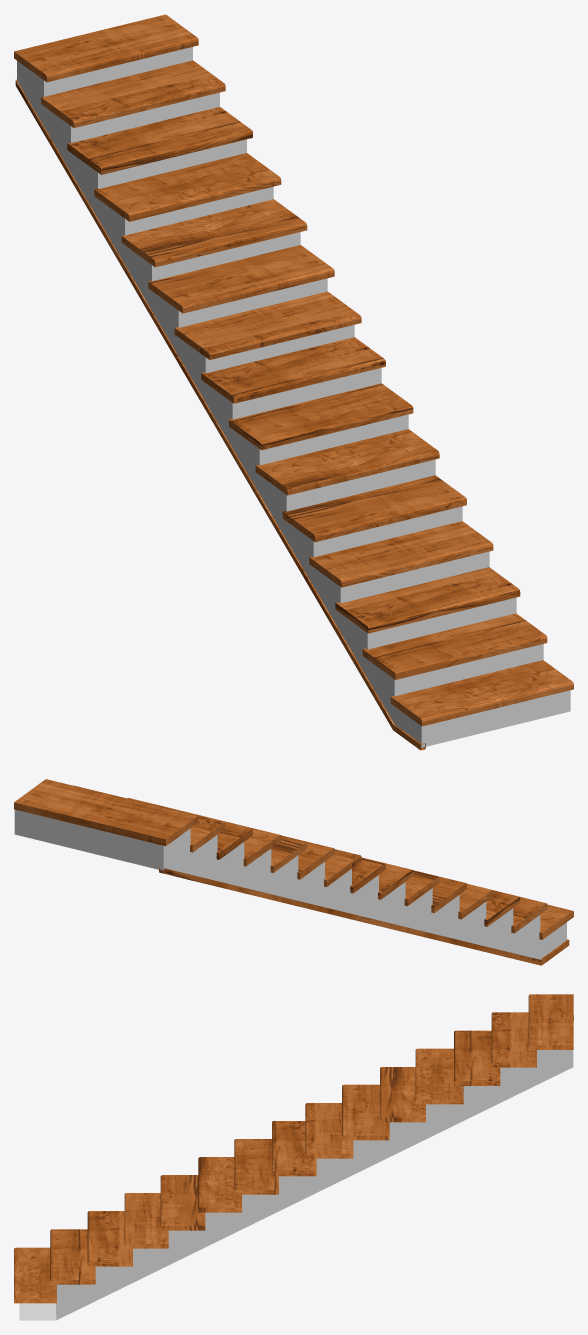
File: BUILDING_stairs_01.FBX
The picture shows the model from 3 angles, top to bottom: view 1: azimuth 30°, elevation 25°; view 2: azimuth 150°, elevation 25°; view 3: azimuth 270°, elevation 25°; orthographic projection. The views are drawn at different scales.
Visible parts, largest first — view 1: BUILIDING_stairs_01_steps, BUILIDING_stairs_01_base, BUILIDING_stairs_01_edge; view 2: BUILIDING_stairs_01_base, BUILIDING_stairs_01_steps, BUILIDING_stairs_01_edge; view 3: BUILIDING_stairs_01_steps, BUILIDING_stairs_01_base.
Boxes of the visible parts, box(x1,y1,x2,y2) form: BUILIDING_stairs_01_steps: box(14, 14, 573, 726); BUILIDING_stairs_01_base: box(17, 47, 570, 747); BUILIDING_stairs_01_edge: box(15, 79, 425, 750); BUILIDING_stairs_01_base: box(14, 809, 566, 959); BUILIDING_stairs_01_steps: box(14, 779, 573, 939); BUILIDING_stairs_01_edge: box(159, 867, 569, 965); BUILIDING_stairs_01_steps: box(14, 994, 573, 1303); BUILIDING_stairs_01_base: box(19, 1050, 573, 1320).
Bounding box in the file's own units: 185 × 467 × 858.
1 material, 1 textured.
